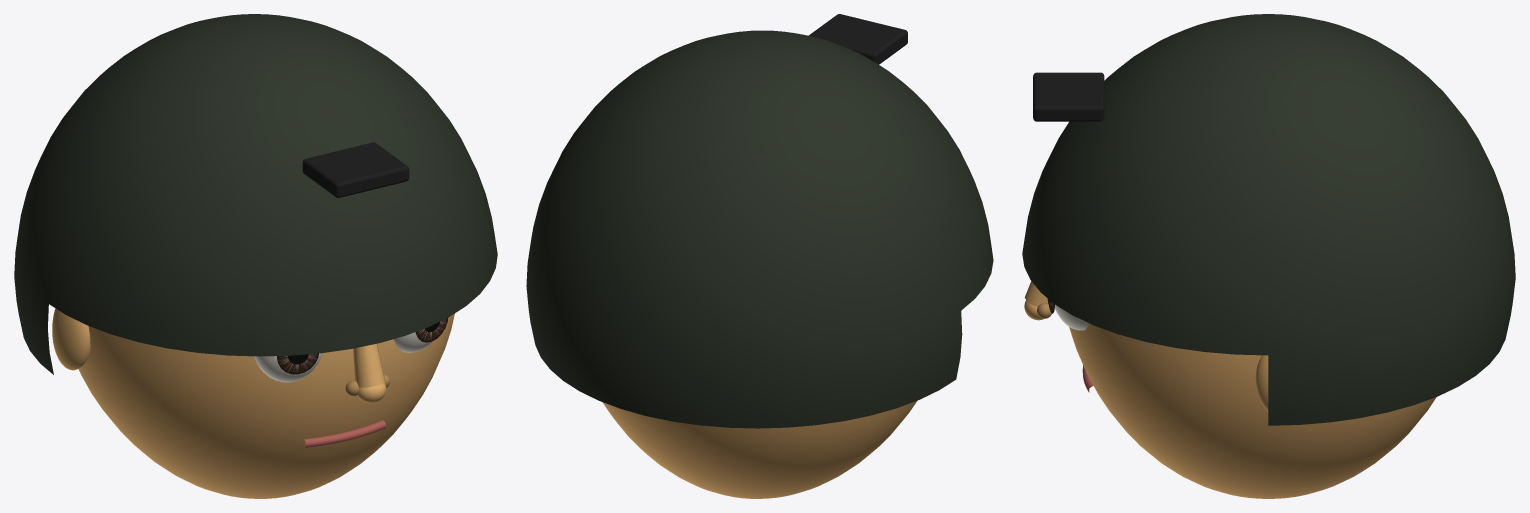
File: 15-casque-tactique.glb
The picture shows the model from 3 angles, left to right: view 1: azimuth 30°, elevation 25°; view 2: azimuth 150°, elevation 25°; view 3: azimuth 270°, elevation 25°; orthographic projection. The views are drawn at different scales.
Bounding box in the file's own units: 0.3395 × 0.349 × 0.3461.
Materials: 11 (1 with a texture image).
